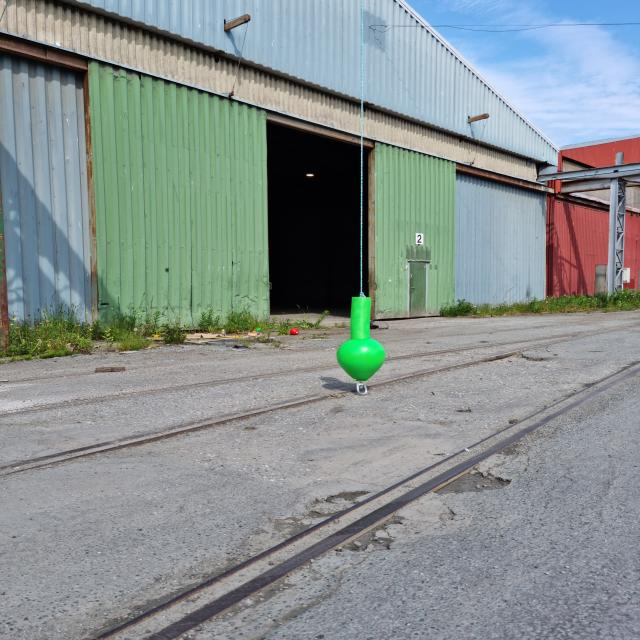green: (336, 298, 387, 382)
